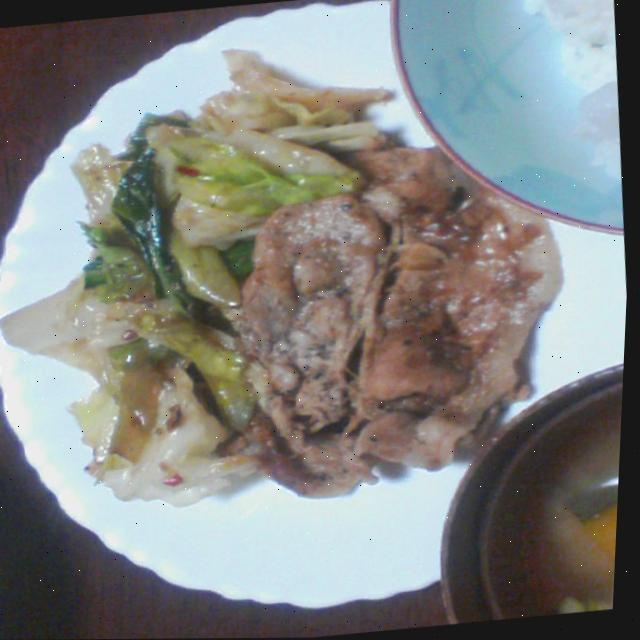蔬菜料理: (0, 28, 439, 566)
